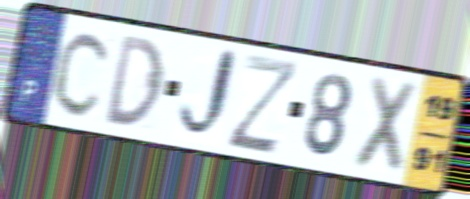8: (303, 71, 355, 160)
C: (49, 28, 115, 120)
D: (103, 31, 166, 130)
J: (175, 43, 241, 145)
X: (348, 71, 423, 180)
Z: (224, 52, 303, 158)
